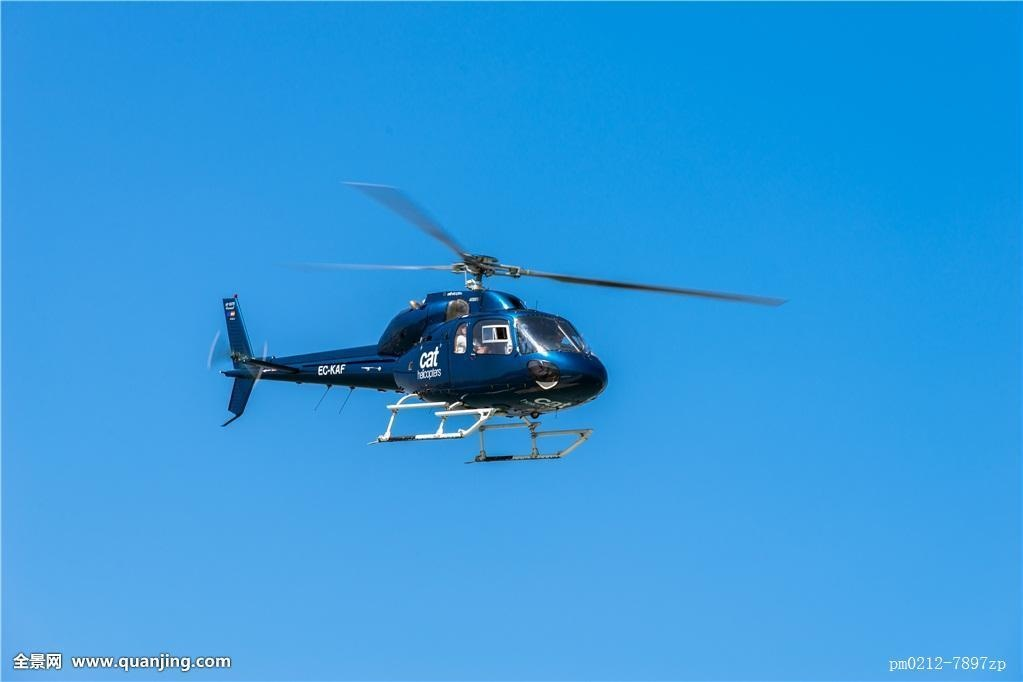airplane: (202, 185, 790, 484)
